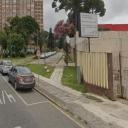speed_limit_50: (36, 50, 41, 57)
